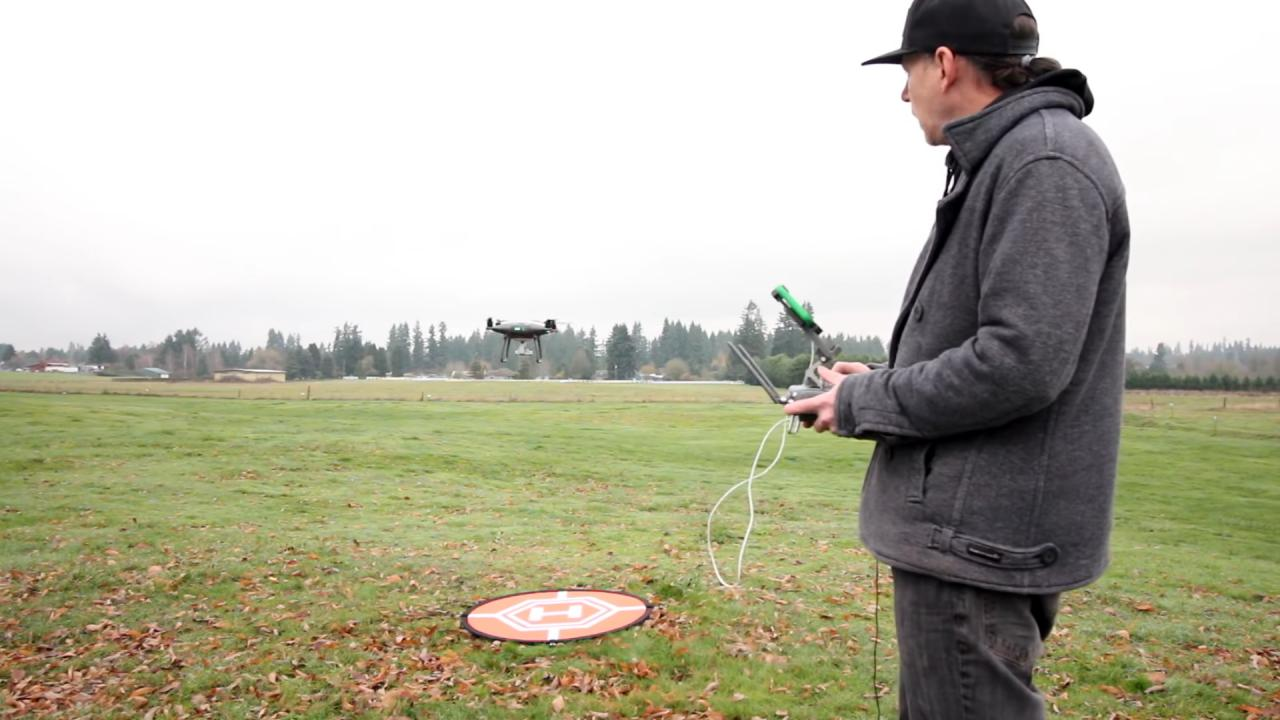Drone: (476, 311, 577, 368)
